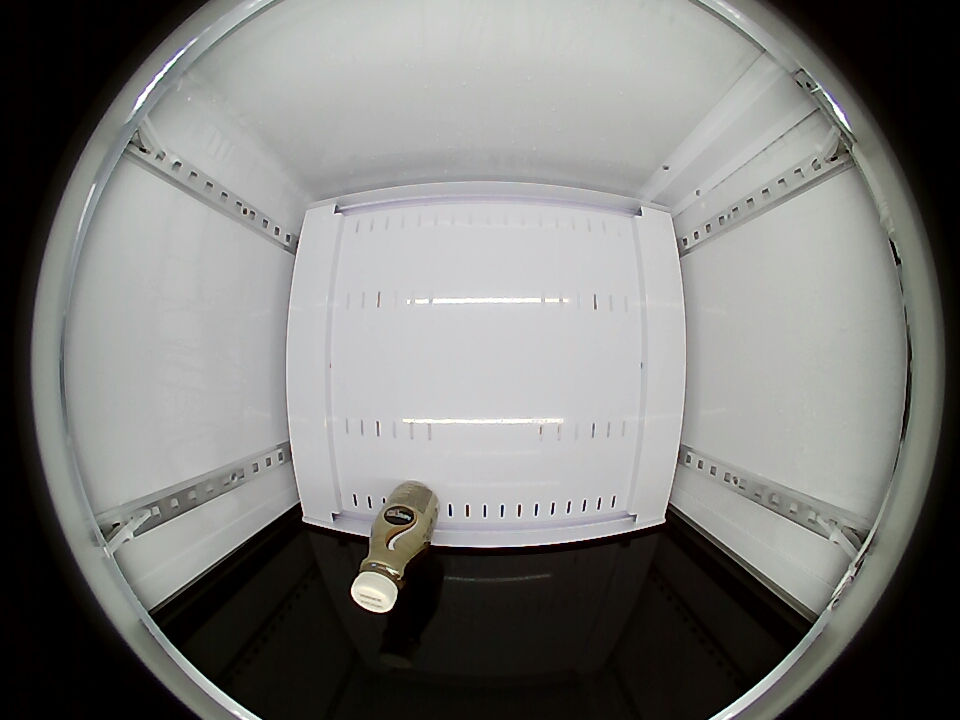kafei: (351, 517, 432, 614)
